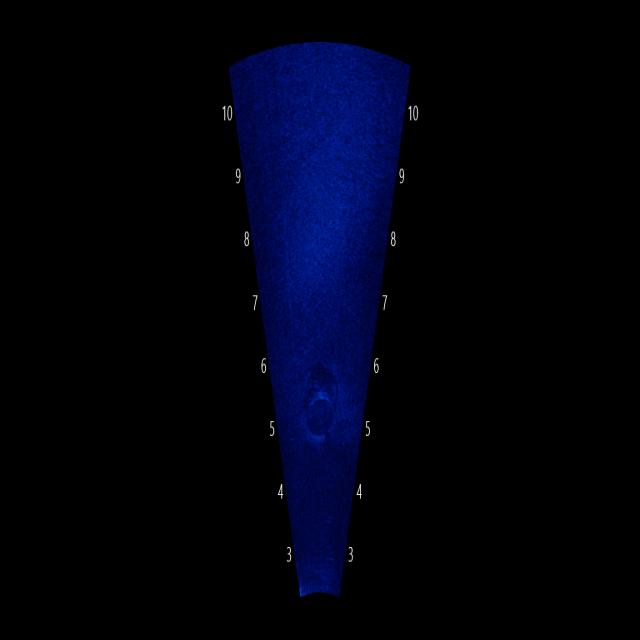circle: (300, 373, 345, 455)
